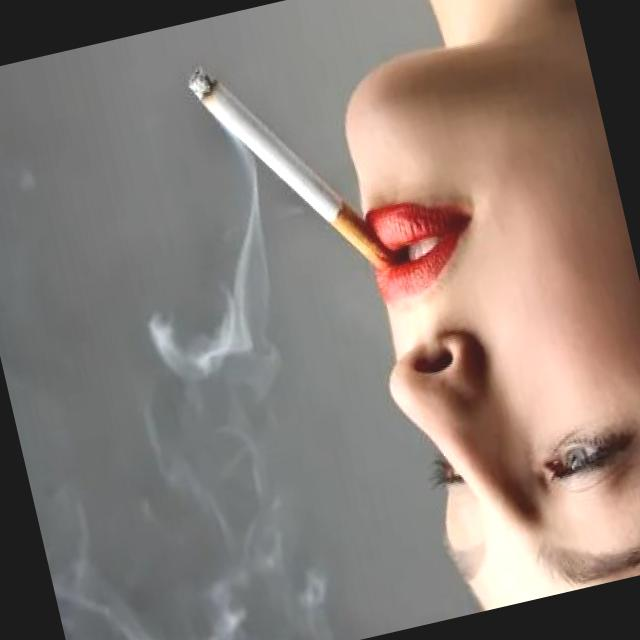cigarette: (182, 26, 396, 310)
